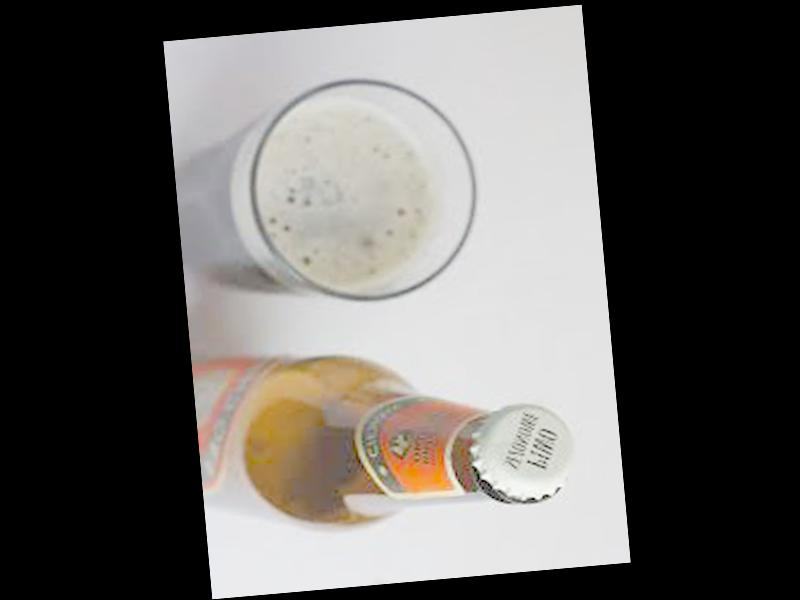Beer: (190, 324, 579, 542)
